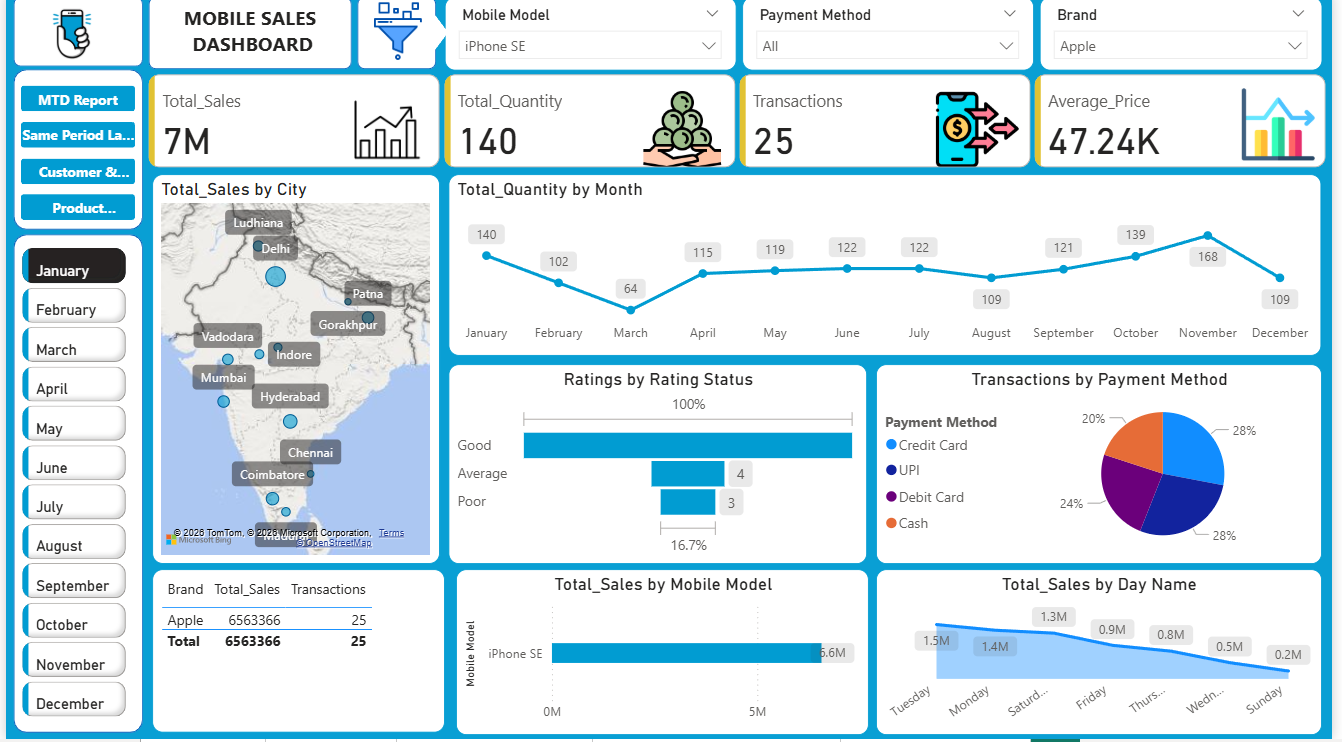

The dashboard page shown, as its layout file describes it:
{"tool":"powerbi","page":{"name":"Dashboard","canvas":[1280,720],"ordinal":0},"visuals":[{"type":"shape","box":[7.5,3.8,125,67.5],"z":0},{"type":"image","box":[23.8,3.8,78.8,71.2],"z":1000},{"type":"shape","box":[7.5,73.8,125,155],"z":2000},{"type":"shape","box":[7.5,232.5,125,481.2],"z":3000},{"type":"advancedSlicerVisual","fields":{"Values":["Custom_Calendar.Date.Variation.Date Hierarchy.Month"]},"box":[11.2,241.2,110,472.5],"z":4000},{"type":"cardVisual","fields":{"Data":["Sales_Data.Total_Sales","Sales_Data.Total_Quantity","Sales_Data.Transactions","Sales_Data.Average_Price"]},"box":[132.5,73.8,1147.5,100],"z":5000},{"type":"slicer","fields":{"Values":["Sales_Data.Mobile Model"]},"box":[423.8,3.8,281.2,71.2],"z":6000},{"type":"slicer","fields":{"Values":["Sales_Data.Payment Method"]},"box":[710,3.8,281.2,71.2],"z":7000},{"type":"slicer","fields":{"Values":["Sales_Data.Brand"]},"box":[997.5,3.8,272.5,71.2],"z":8000},{"type":"shape","box":[338.8,3.8,76.2,70],"z":9000},{"type":"image","box":[337.5,3.8,81.2,66.2],"z":10000},{"type":"shape","box":[397.5,17.5,30,40],"z":11000},{"type":"shape","box":[137.5,3.8,196.2,70],"z":12000},{"type":"textbox","box":[156.2,6.2,162.5,63.8],"z":13000},{"type":"map","fields":{"Category":["Sales_Data.City"],"Size":["Sales_Data.Total_Sales"]},"box":[141.2,175,277.5,376.2],"z":14000},{"type":"lineChart","fields":{"Y":["Sales_Data.Total_Quantity"],"Category":["Custom_Calendar.Date.Variation.Date Hierarchy.Month"]},"box":[427.5,175,842.5,175],"z":15000},{"type":"funnel","title":"Ratings by Rating Status","fields":{"Y":["CountNonNull(Sales_Data.Customer Ratings)"],"Category":["Sales_Data.Rating Status"]},"box":[427.5,358.8,403.8,192.5],"z":16000},{"type":"pieChart","fields":{"Y":["Sales_Data.Transactions"],"Category":["Sales_Data.Payment Method"]},"box":[840,358.8,430,192.5],"z":17000},{"type":"clusteredBarChart","fields":{"Y":["Sales_Data.Total_Sales"],"Category":["Sales_Data.Mobile Model"]},"box":[433.8,556.2,398.8,160],"z":18000},{"type":"areaChart","fields":{"Y":["Sales_Data.Total_Sales"],"Category":["Custom_Calendar.Day Name"]},"box":[840,556.2,430,160],"z":19000},{"type":"tableEx","fields":{"Values":["Sales_Data.Brand","Sales_Data.Total_Sales","Sales_Data.Transactions"]},"box":[141.2,556.2,282.5,157.5],"z":20000},{"type":"pageNavigator","box":[15,88.8,110,130],"z":21000}]}

Visuals, with their boxes in screenshot pixels (x1, y1, x2, y2), scaled from the page's 1280x720 canvas onto the 1342x742 screenshot:
shape: [left=8, top=4, right=139, bottom=73]
image: [left=25, top=4, right=108, bottom=77]
shape: [left=8, top=76, right=139, bottom=236]
shape: [left=8, top=240, right=139, bottom=736]
advancedSlicerVisual - Custom_Calendar.Date.Variation.Date Hierarchy.Month: [left=12, top=249, right=127, bottom=736]
cardVisual - Sales_Data.Total_Sales x Sales_Data.Total_Quantity: [left=139, top=76, right=1341, bottom=179]
slicer - Sales_Data.Mobile Model: [left=444, top=4, right=739, bottom=77]
slicer - Sales_Data.Payment Method: [left=744, top=4, right=1039, bottom=77]
slicer - Sales_Data.Brand: [left=1046, top=4, right=1332, bottom=77]
shape: [left=355, top=4, right=435, bottom=76]
image: [left=354, top=4, right=439, bottom=72]
shape: [left=417, top=18, right=448, bottom=59]
shape: [left=144, top=4, right=350, bottom=76]
textbox: [left=164, top=6, right=334, bottom=72]
map - Sales_Data.City x Sales_Data.Total_Sales: [left=148, top=180, right=439, bottom=568]
lineChart - Sales_Data.Total_Quantity x Custom_Calendar.Date.Variation.Date Hierarchy.Month: [left=448, top=180, right=1332, bottom=361]
"Ratings by Rating Status" funnel: [left=448, top=370, right=872, bottom=568]
pieChart - Sales_Data.Transactions x Sales_Data.Payment Method: [left=881, top=370, right=1332, bottom=568]
clusteredBarChart - Sales_Data.Total_Sales x Sales_Data.Mobile Model: [left=455, top=573, right=873, bottom=738]
areaChart - Sales_Data.Total_Sales x Custom_Calendar.Day Name: [left=881, top=573, right=1332, bottom=738]
tableEx - Sales_Data.Brand x Sales_Data.Total_Sales: [left=148, top=573, right=444, bottom=736]
pageNavigator: [left=16, top=92, right=131, bottom=225]
